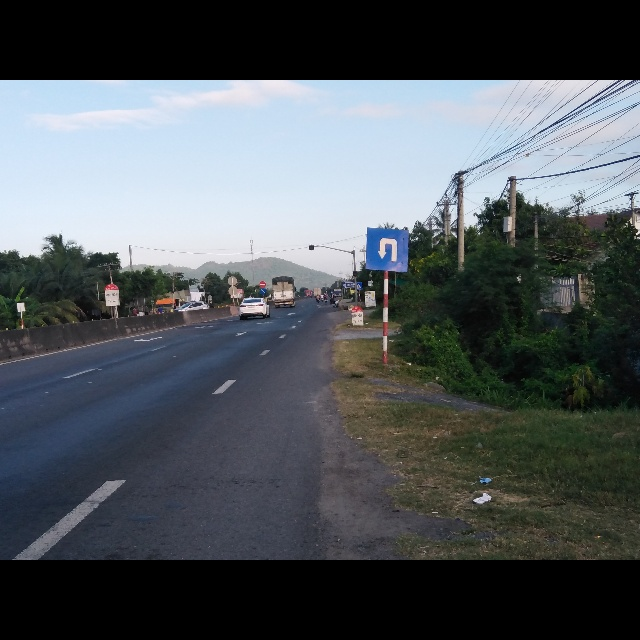Khu vực quay đầu xe: (365, 226, 409, 274)
